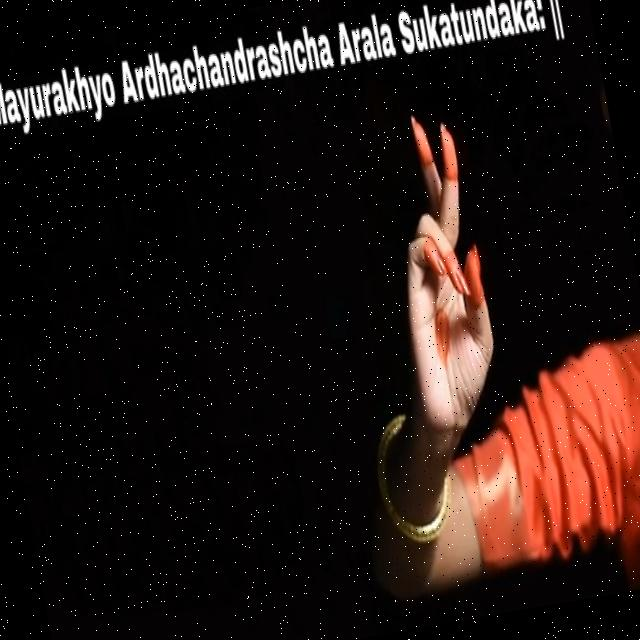Kartarimukha: (354, 83, 528, 440)
bangle: (355, 431, 466, 563)
text: (0, 0, 573, 150)
